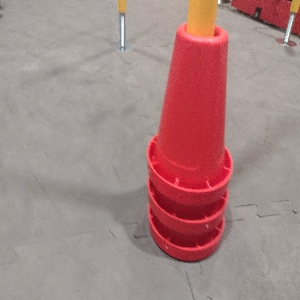Red_3: (146, 20, 233, 262)
